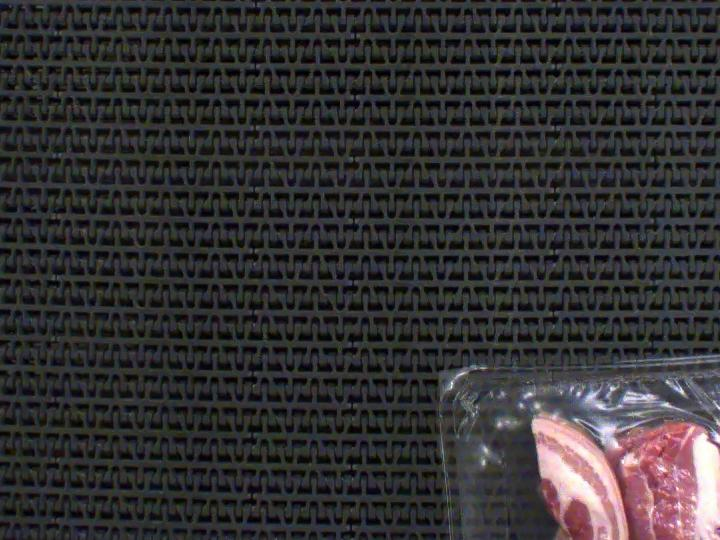unsealed: (462, 365, 720, 540)
